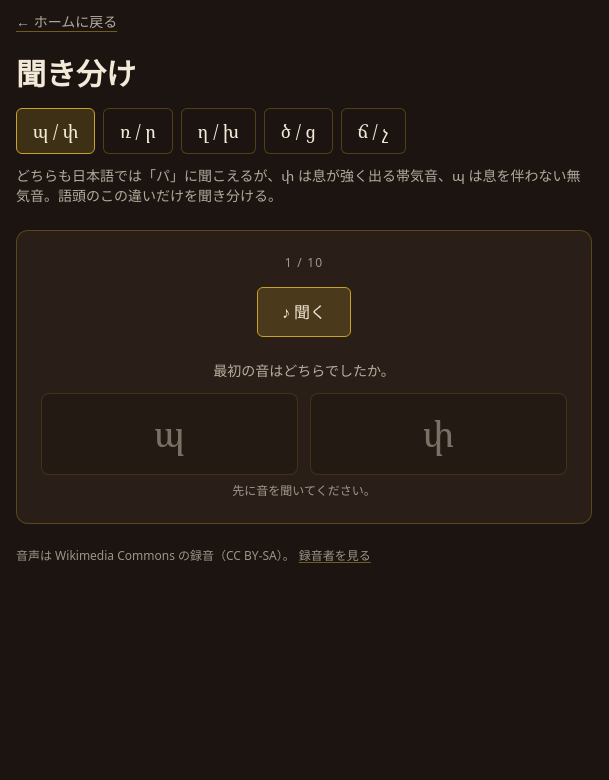
ListeningChallenge（聞き分けチャレンジ, roadmap 3-2） › reveals the word and its meaning only after answering
This screenshot has width=609, height=780.
Expected: the text "պանիր" is not shown
Click the button "♪ 聞く". click: (304, 312)
box: [257, 287, 351, 337]
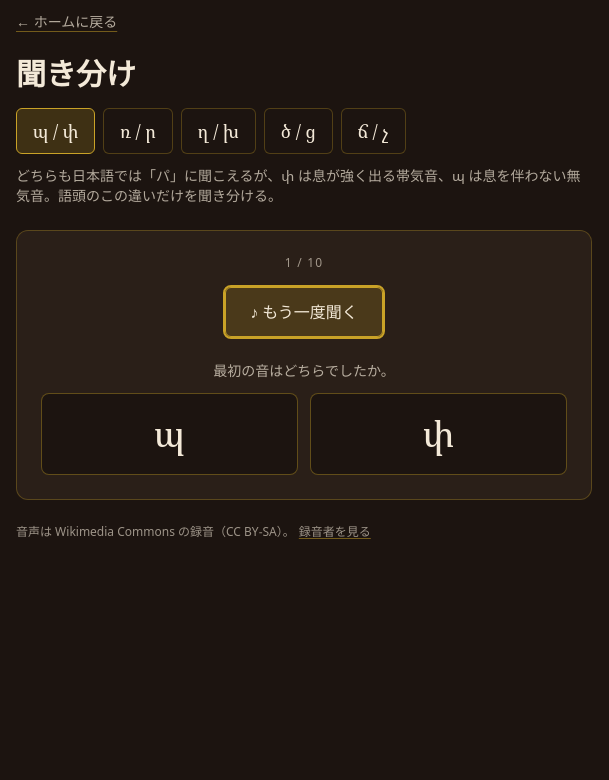
Click the button "պ". click: (170, 434)
box: [41, 393, 298, 475]
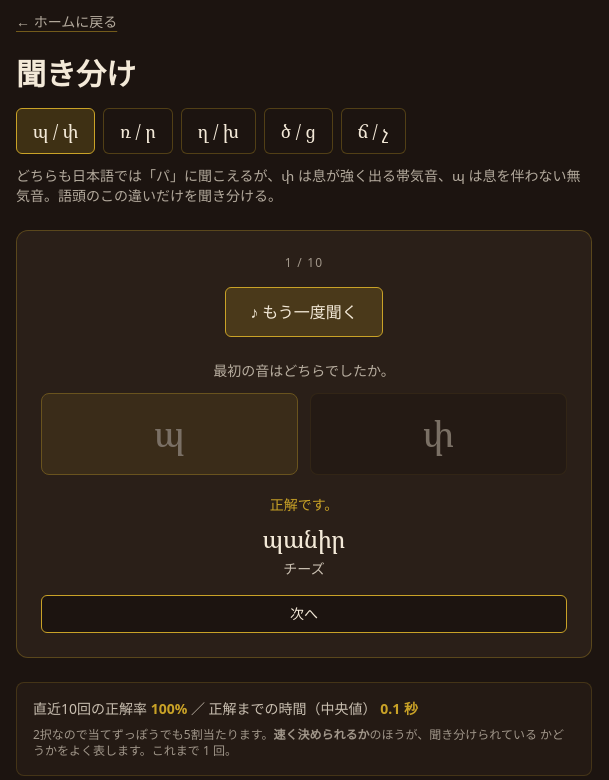
Now the button "次へ" is shown, box [41, 595, 567, 633]
